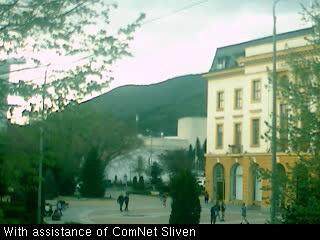person: (239, 203, 250, 224), (209, 205, 218, 224), (215, 200, 222, 221), (56, 200, 64, 217), (117, 193, 124, 212), (221, 202, 227, 221), (124, 194, 129, 210), (204, 190, 210, 203), (163, 191, 167, 207), (159, 190, 163, 203)
